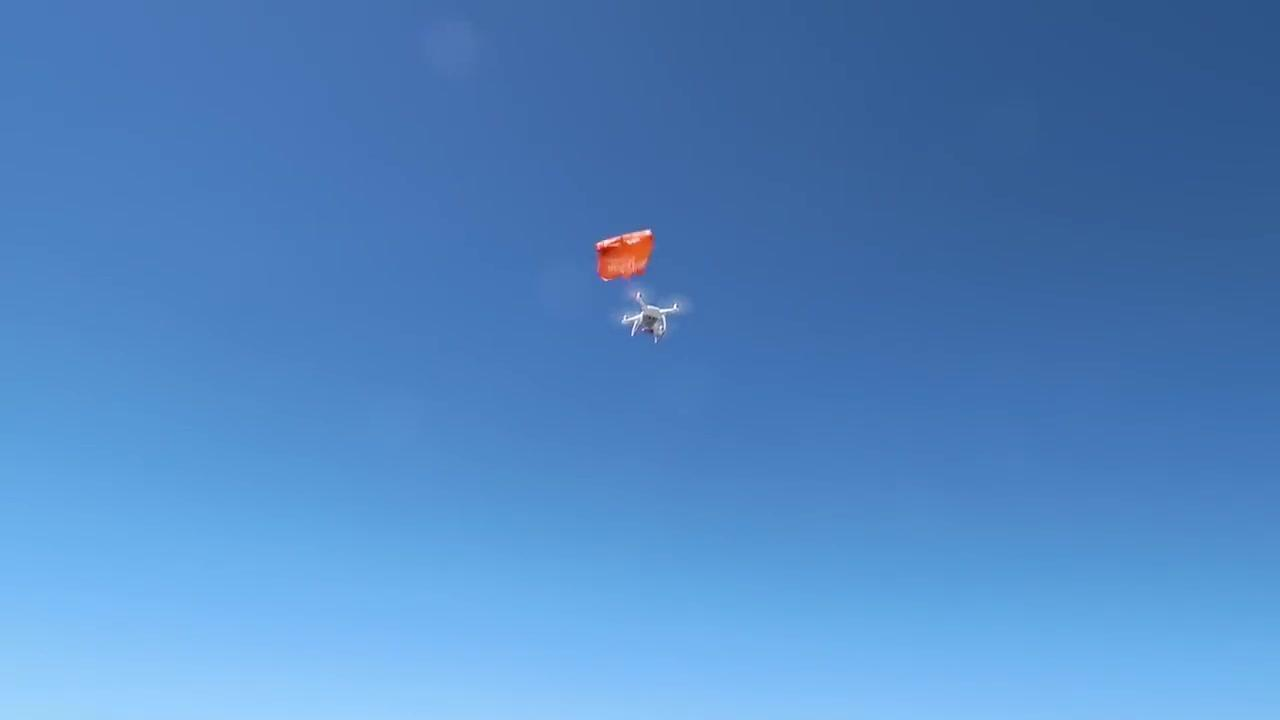UAV: (622, 293, 680, 345)
